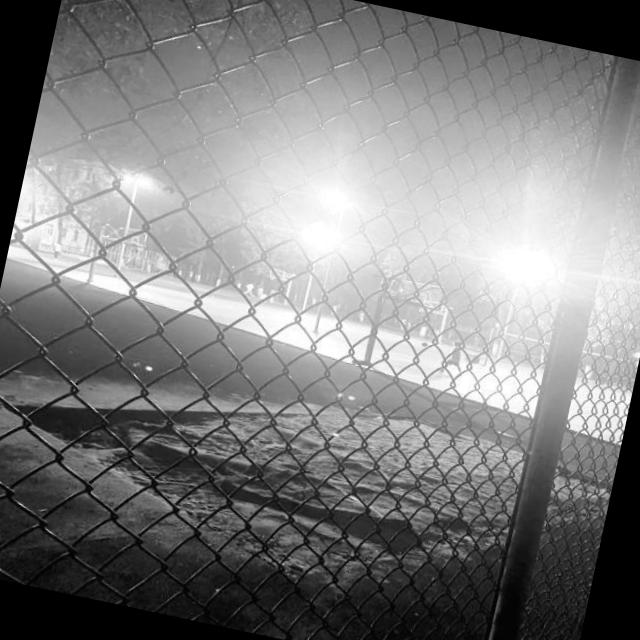Light: (484, 226, 568, 302), (289, 180, 362, 267)
